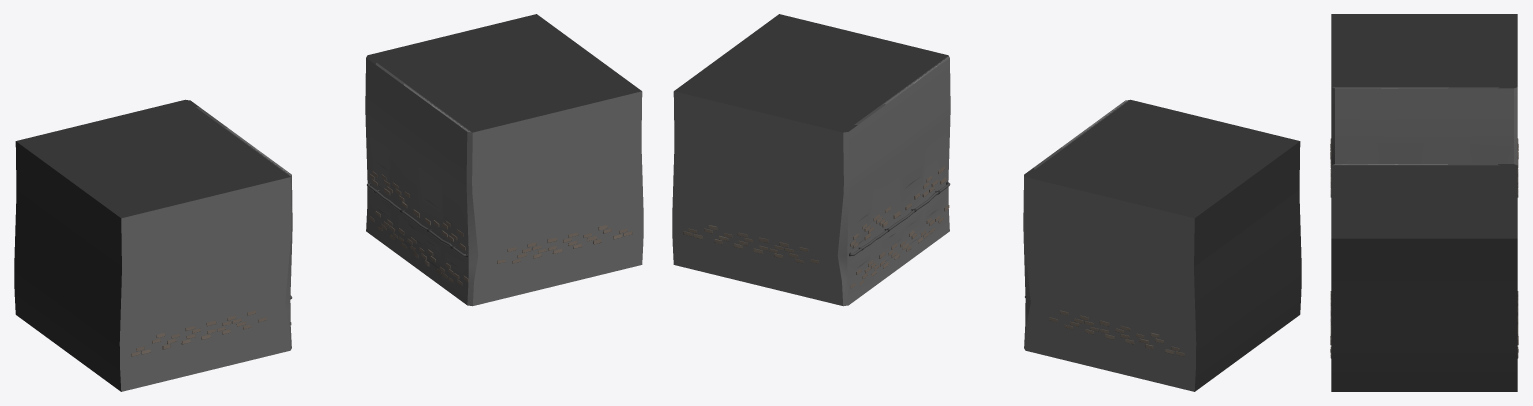
Rendered from 20C_TunnelIN.fbx.
3 renders of one model, left to right at view 1: azimuth 30°, elevation 25°; view 2: azimuth 150°, elevation 25°; view 3: azimuth 270°, elevation 25°, orthographic. The views are drawn at different scales.
Parts seen in each view (by area): view 1: 20C_TunnelIN; view 2: 20C_TunnelIN; view 3: 20C_TunnelIN.
Part boxes in pixels (bbox=[...]): 20C_TunnelIN: bbox=[14, 14, 643, 391]; 20C_TunnelIN: bbox=[672, 14, 1301, 391]; 20C_TunnelIN: bbox=[1330, 14, 1518, 391].
Size of the model in its own units: 448 by 142 by 158.
1 material, 1 textured.
